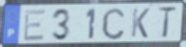1: (85, 8, 96, 41)
3: (51, 7, 73, 42)
C: (101, 6, 127, 41)
E: (22, 8, 47, 42)
K: (130, 7, 151, 39)
T: (157, 6, 178, 40)
